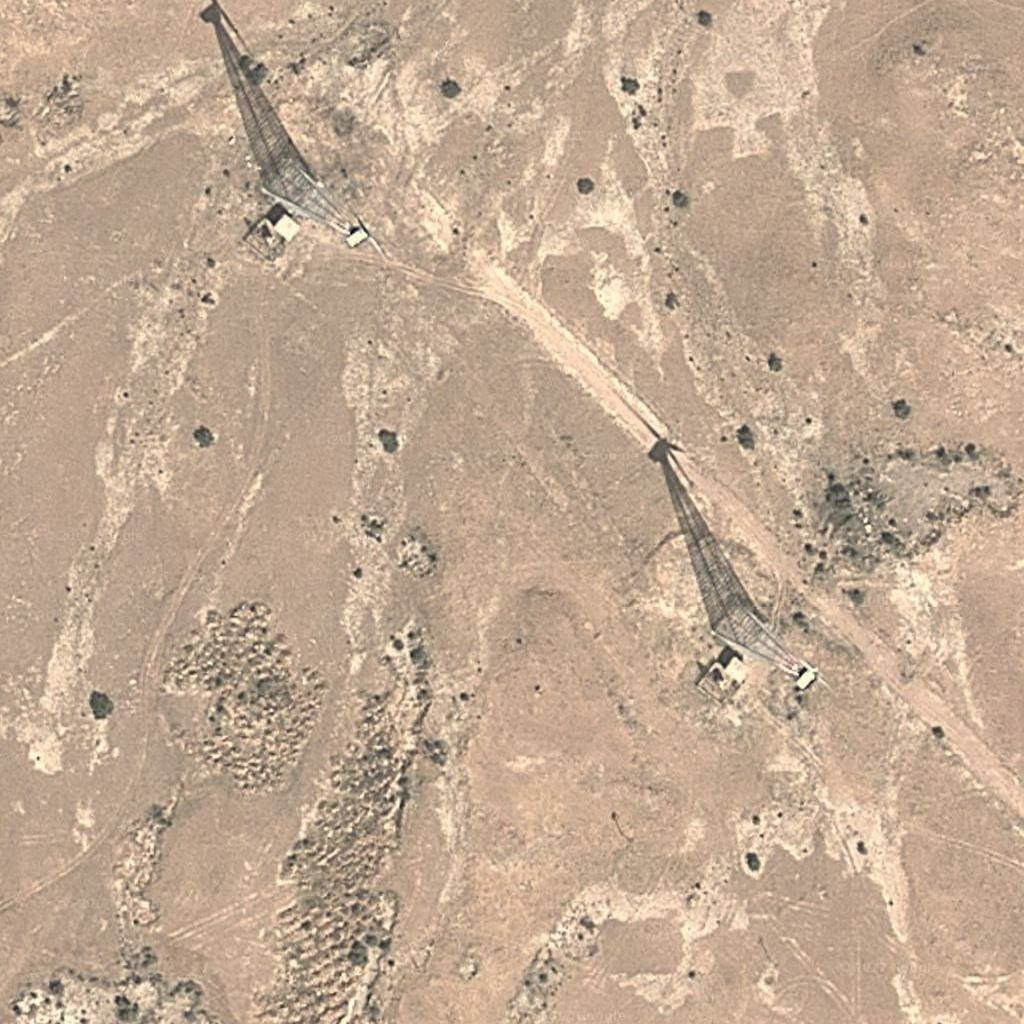Windmill: (616, 390, 783, 630)
